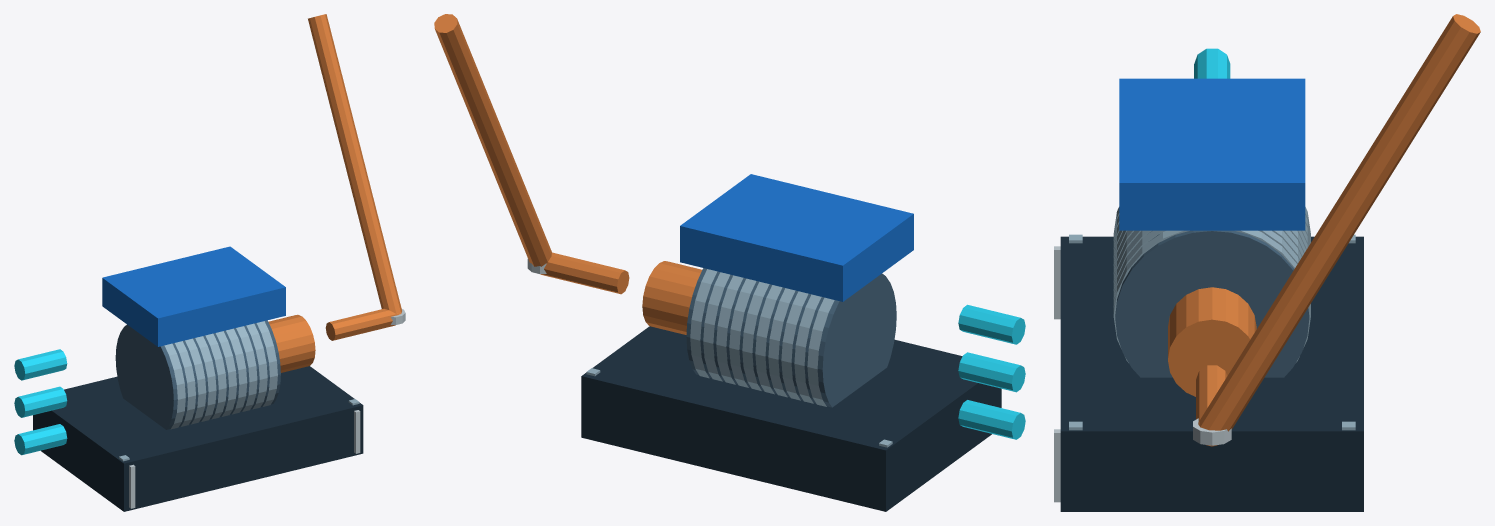
File: 17_L73_PrecisionSlurryMeteringPump.fbx
3 views of the same model, side by side, from view 1: azimuth 30°, elevation 25°; view 2: azimuth 150°, elevation 25°; view 3: azimuth 270°, elevation 25° (orthographic). The views are drawn at different scales.
Parts seen in each view (by area): view 1: PrecisionSlurryMeteringPump, PrecisionSlurryMeteringPump_Part_0007, PrecisionSlurryMeteringPump_Part_0018, PrecisionSlurryMeteringPump_Part_0013, PrecisionSlurryMeteringPump_Part_0016, PrecisionSlurryMeteringPump_Part_0008, PrecisionSlurryMeteringPump_Part_0009, PrecisionSlurryMeteringPump_Part_0011, PrecisionSlurryMeteringPump_Part_0012, PrecisionSlurryMeteringPump_Part_0015, PrecisionSlurryMeteringPump_Part_0017, PrecisionSlurryMeteringPump_Part_0014 (+1 smaller); view 2: PrecisionSlurryMeteringPump, PrecisionSlurryMeteringPump_Part_0007, PrecisionSlurryMeteringPump_Part_0018, PrecisionSlurryMeteringPump_Part_0008, PrecisionSlurryMeteringPump_Part_0009, PrecisionSlurryMeteringPump_Part_0012, PrecisionSlurryMeteringPump_Part_0015, PrecisionSlurryMeteringPump_Part_0017, PrecisionSlurryMeteringPump_Part_0011, PrecisionSlurryMeteringPump_Part_0010, PrecisionSlurryMeteringPump_Part_0014, PrecisionSlurryMeteringPump_Part_0016 (+1 smaller); view 3: PrecisionSlurryMeteringPump, PrecisionSlurryMeteringPump_Part_0007, PrecisionSlurryMeteringPump_Part_0018, PrecisionSlurryMeteringPump_Part_0017, PrecisionSlurryMeteringPump_Part_0016, PrecisionSlurryMeteringPump_Part_0015.
Part boxes in pixels (x1,y1,x2,y2): PrecisionSlurryMeteringPump: [14, 14, 405, 511]; PrecisionSlurryMeteringPump_Part_0007: [115, 320, 280, 429]; PrecisionSlurryMeteringPump_Part_0018: [268, 314, 315, 372]; PrecisionSlurryMeteringPump_Part_0013: [216, 331, 236, 416]; PrecisionSlurryMeteringPump_Part_0016: [246, 323, 267, 409]; PrecisionSlurryMeteringPump_Part_0008: [164, 343, 185, 429]; PrecisionSlurryMeteringPump_Part_0009: [175, 341, 195, 426]; PrecisionSlurryMeteringPump_Part_0011: [195, 336, 216, 421]; PrecisionSlurryMeteringPump_Part_0012: [205, 333, 226, 419]; PrecisionSlurryMeteringPump_Part_0015: [236, 326, 257, 411]; PrecisionSlurryMeteringPump_Part_0017: [256, 321, 277, 406]; PrecisionSlurryMeteringPump_Part_0014: [226, 328, 247, 414]; PrecisionSlurryMeteringPump: [434, 14, 1025, 511]; PrecisionSlurryMeteringPump_Part_0007: [686, 268, 896, 407]; PrecisionSlurryMeteringPump_Part_0018: [642, 261, 701, 334]; PrecisionSlurryMeteringPump_Part_0008: [807, 297, 834, 406]; PrecisionSlurryMeteringPump_Part_0009: [794, 294, 821, 403]; PrecisionSlurryMeteringPump_Part_0012: [755, 285, 782, 394]; PrecisionSlurryMeteringPump_Part_0015: [716, 275, 743, 384]; PrecisionSlurryMeteringPump_Part_0017: [690, 269, 717, 378]; PrecisionSlurryMeteringPump_Part_0011: [768, 288, 795, 397]; PrecisionSlurryMeteringPump_Part_0010: [781, 291, 808, 400]; PrecisionSlurryMeteringPump_Part_0014: [729, 278, 756, 387]; PrecisionSlurryMeteringPump_Part_0016: [703, 272, 729, 381]; PrecisionSlurryMeteringPump: [1054, 14, 1480, 511]; PrecisionSlurryMeteringPump_Part_0007: [1115, 230, 1309, 377]; PrecisionSlurryMeteringPump_Part_0018: [1168, 287, 1256, 396]; PrecisionSlurryMeteringPump_Part_0017: [1113, 230, 1310, 362]; PrecisionSlurryMeteringPump_Part_0016: [1113, 230, 1310, 307]; PrecisionSlurryMeteringPump_Part_0015: [1113, 230, 1301, 298].
Bounding box in the file's own units: 183 × 152 × 106.
